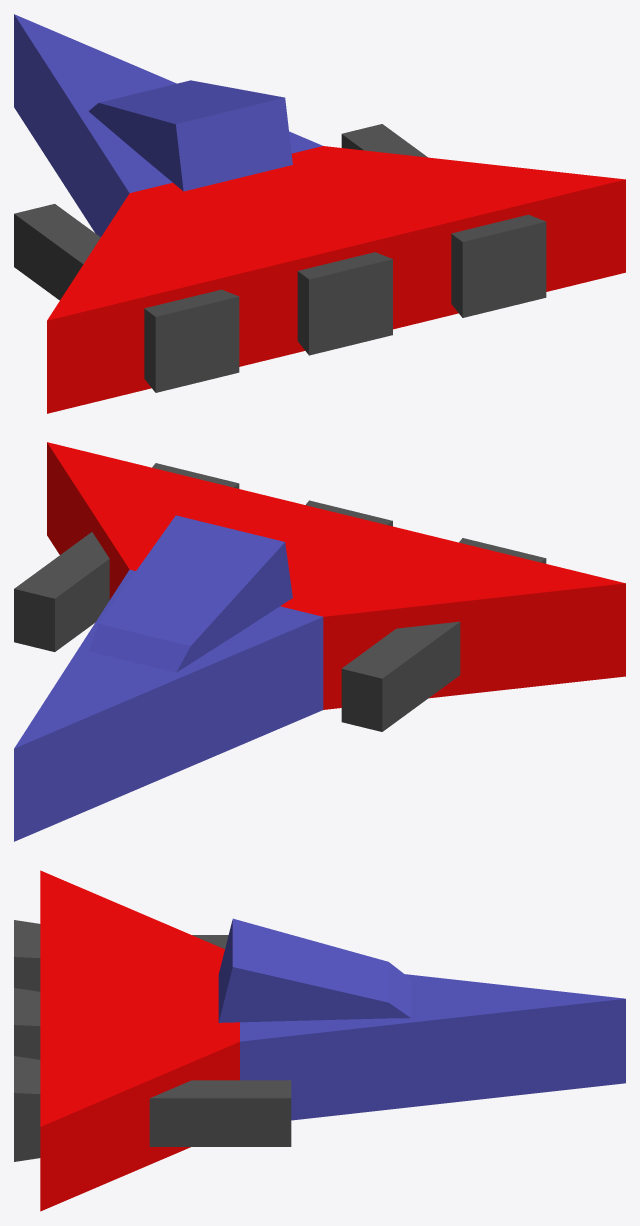
The model's file is Ship_1-2.fbx.
The picture shows the model from 3 angles, top to bottom: view 1: azimuth 30°, elevation 25°; view 2: azimuth 150°, elevation 25°; view 3: azimuth 270°, elevation 25°; orthographic projection. The views are drawn at different scales.
Visible parts, largest first — view 1: Ship; view 2: Ship; view 3: Ship.
Part boxes in pixels (<box>): Ship: <box>14,14,625,413</box>; Ship: <box>14,442,625,841</box>; Ship: <box>14,870,625,1211</box>.
Size of the model in its own units: 42447 by 10840 by 42787.
